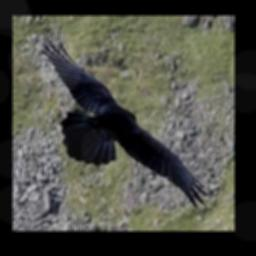Crow: (41, 40, 210, 209)
